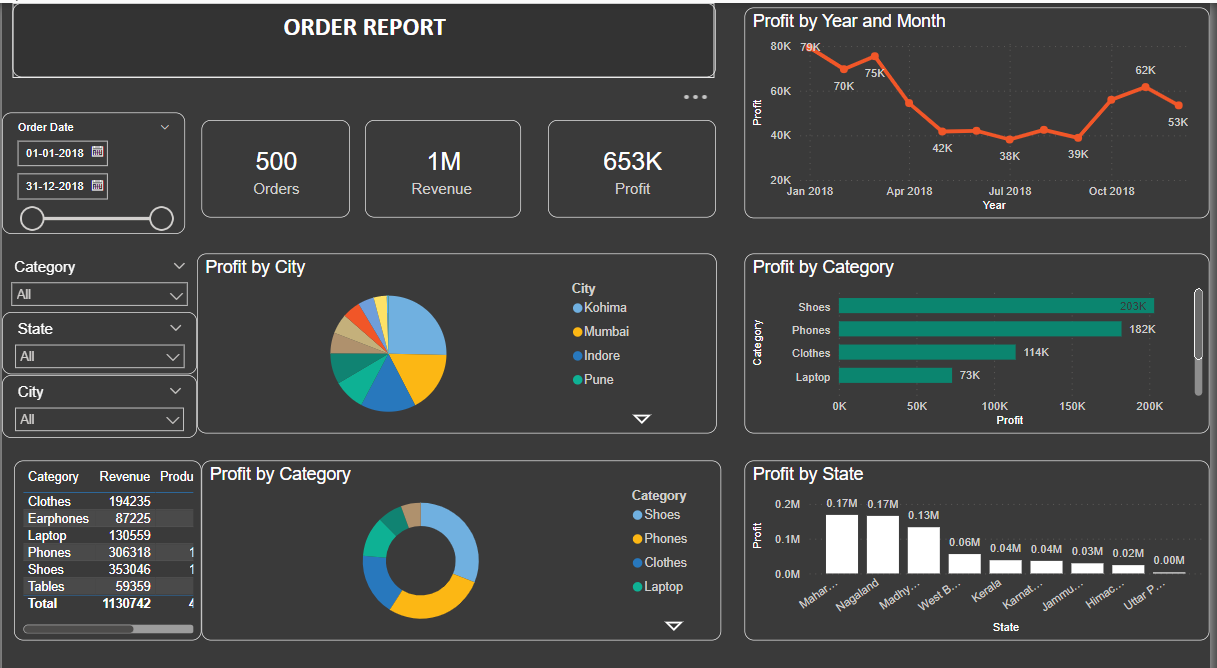

The dashboard page shown, as its layout file describes it:
{"tool":"powerbi","page":{"name":"Page 1","canvas":[1280,720],"ordinal":0},"visuals":[{"type":"textbox","box":[10.6,0,745,78.8],"z":0},{"type":"card","fields":{"Values":["Sum(Orders.order_total)"]},"box":[384.8,124.1,165.5,103.5],"z":2},{"type":"card","fields":{"Values":["Sum(Orders.Profit)"]},"box":[579.3,124.1,177.9,103.5],"z":3},{"type":"lineChart","fields":{"Category":["Orders.Order Date.Variation.Date Hierarchy.Year","Orders.Order Date.Variation.Date Hierarchy.Month"],"Y":["Sum(Orders.Profit)"]},"box":[786.2,4.1,492.4,223.5],"z":4},{"type":"clusteredBarChart","fields":{"Y":["Sum(Orders.Profit)"],"Category":["Orders.Category"]},"box":[786.2,264.8,492.4,190.3],"z":5},{"type":"clusteredColumnChart","fields":{"Y":["Sum(Orders.Profit)"],"Category":["Orders.State"]},"box":[786.2,484.1,492.4,190.3],"z":6},{"type":"pieChart","fields":{"Category":["Orders.City"],"Y":["Sum(Orders.Profit)"]},"box":[206.9,264.8,550.4,190.3],"z":7},{"type":"donutChart","fields":{"Y":["Sum(Orders.Profit)"],"Category":["Orders.Category"]},"box":[211,484.1,550.4,190.3],"z":8},{"type":"tableEx","fields":{"Values":["Orders.Category","Sum(Orders.order_total)","Sum(Orders.Product cost)","Sum(Orders.Profit)"]},"box":[12.4,484.1,198.6,190.3],"z":9},{"type":"slicer","fields":{"Values":["Orders.Order Date"]},"box":[0,116,193.9,128.7],"z":10},{"type":"slicer","fields":{"Values":["Orders.Category"]},"box":[0,264.8,206.9,66.2],"z":11},{"type":"slicer","fields":{"Values":["Orders.State"]},"box":[0,326.9,206.9,66.2],"z":12},{"type":"slicer","fields":{"Values":["Orders.City"]},"box":[0,394.2,206.6,66.8],"z":13},{"type":"card","fields":{"Values":["CountNonNull(Orders.Order ID)"]},"box":[211.4,124,157.4,103.3],"z":14}]}

Visuals, with their boxes in screenshot pixels (x1, y1, x2, y2), scaled from the page's 1280x720 canvas onto the 1217x668 screenshot:
textbox: x1=10, y1=0, x2=718, y2=73
card - Sum(Orders.order_total): x1=366, y1=115, x2=523, y2=211
card - Sum(Orders.Profit): x1=551, y1=115, x2=720, y2=211
lineChart - Orders.Order Date.Variation.Date Hierarchy.Year x Orders.Order Date.Variation.Date Hierarchy.Month: x1=748, y1=4, x2=1216, y2=211
clusteredBarChart - Sum(Orders.Profit) x Orders.Category: x1=748, y1=246, x2=1216, y2=422
clusteredColumnChart - Sum(Orders.Profit) x Orders.State: x1=748, y1=449, x2=1216, y2=626
pieChart - Orders.City x Sum(Orders.Profit): x1=197, y1=246, x2=720, y2=422
donutChart - Sum(Orders.Profit) x Orders.Category: x1=201, y1=449, x2=724, y2=626
tableEx - Orders.Category x Sum(Orders.order_total): x1=12, y1=449, x2=201, y2=626
slicer - Orders.Order Date: x1=0, y1=108, x2=184, y2=227
slicer - Orders.Category: x1=0, y1=246, x2=197, y2=307
slicer - Orders.State: x1=0, y1=303, x2=197, y2=365
slicer - Orders.City: x1=0, y1=366, x2=196, y2=428
card - CountNonNull(Orders.Order ID): x1=201, y1=115, x2=351, y2=211
